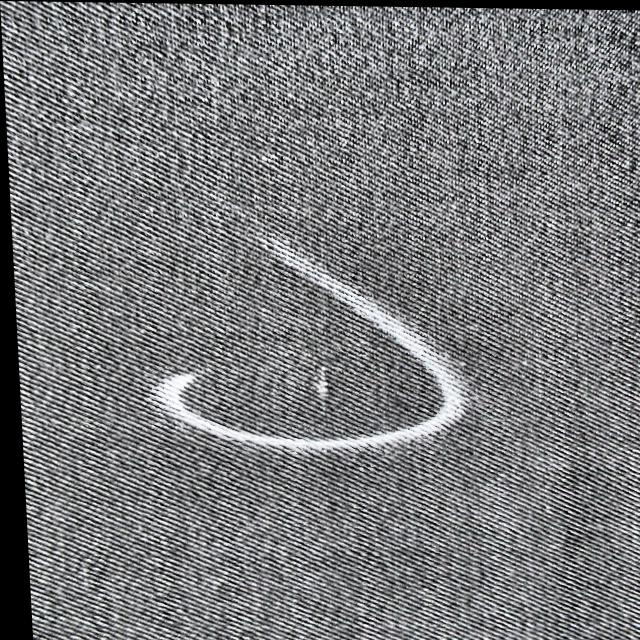Hole: (313, 363, 326, 391)
